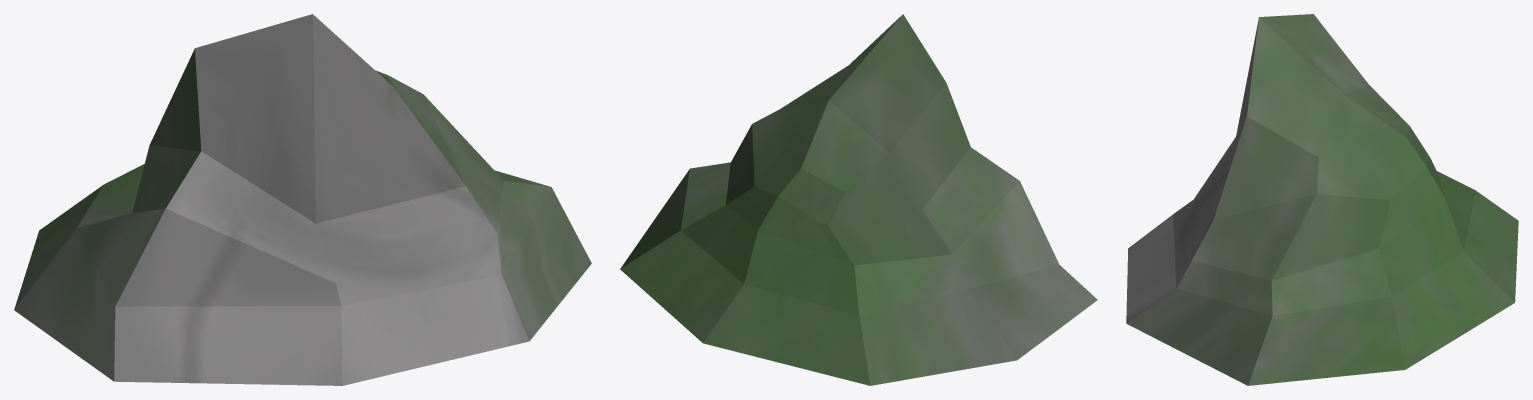
The model's file is mossed-stone-009-62.glb.
3 views of the same model, side by side, from view 1: azimuth 30°, elevation 25°; view 2: azimuth 150°, elevation 25°; view 3: azimuth 270°, elevation 25° (orthographic). The views are drawn at different scales.
Parts seen in each view (by area): view 1: mossed_stone.009_62; view 2: mossed_stone.009_62; view 3: mossed_stone.009_62.
Part boxes in pixels (x1=…): mossed_stone.009_62: x1=14, y1=14, x2=591, y2=385; mossed_stone.009_62: x1=620, y1=14, x2=1097, y2=385; mossed_stone.009_62: x1=1126, y1=14, x2=1518, y2=385.
Size of the model in its own units: 11.64 by 7.06 by 9.71.
1 material, 1 textured.
